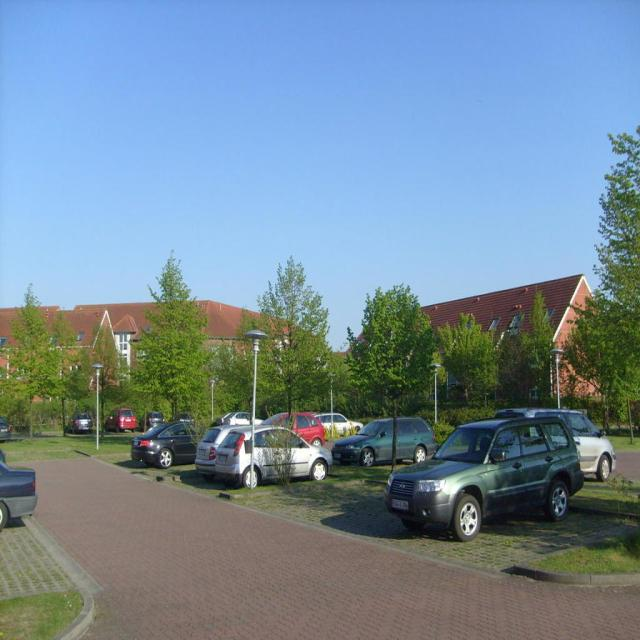car: (64, 414, 93, 433)
